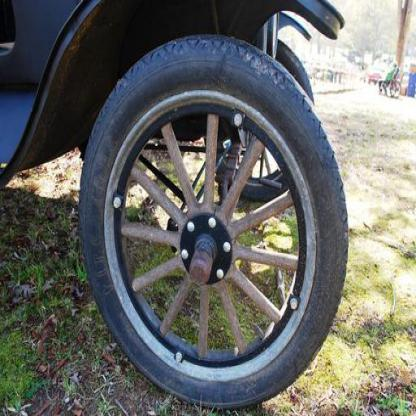Tire: (78, 31, 350, 408)
